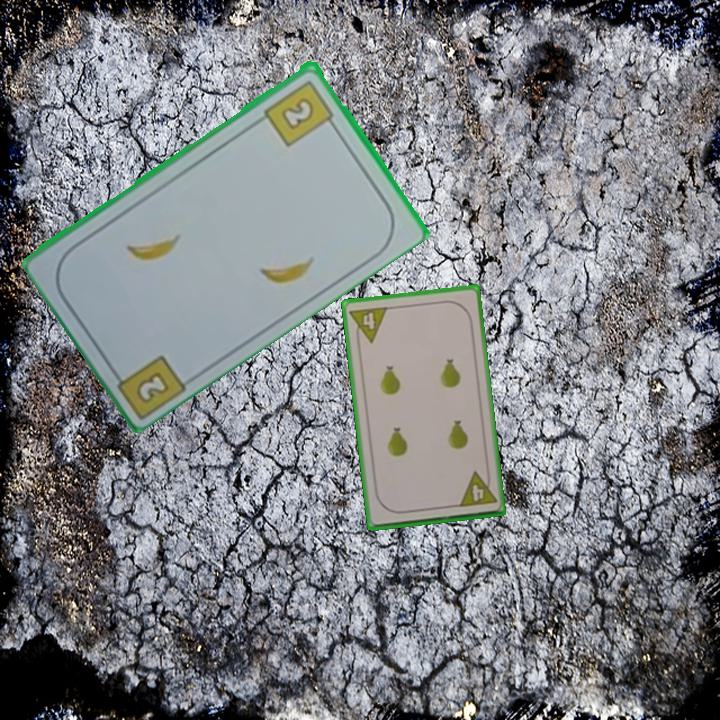2b: (106, 350, 190, 419), (260, 76, 339, 149)
4p: (346, 303, 390, 347), (455, 467, 499, 510)
